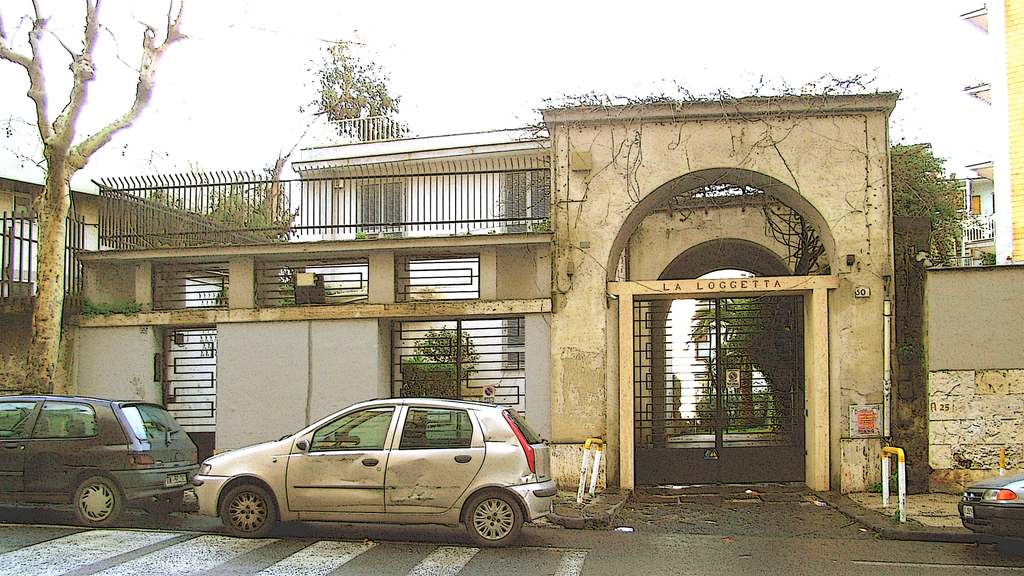Car: (191, 398, 555, 547), (0, 391, 200, 528), (956, 471, 1023, 549)
